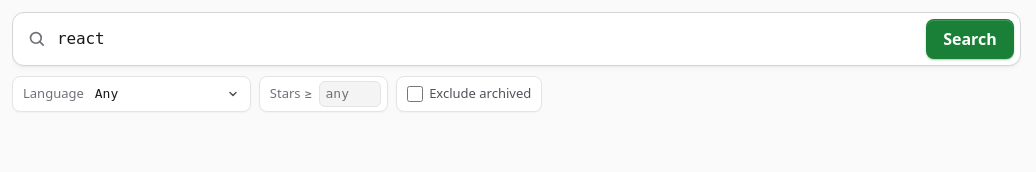
Test case: SearchFilters › toggles archived:false and shows archived:true as a removable chip
The image size is (1036, 172).
Click the checkbox labelled "Exclude archived".
click(415, 94)  # box left=407, top=86, right=423, bottom=102
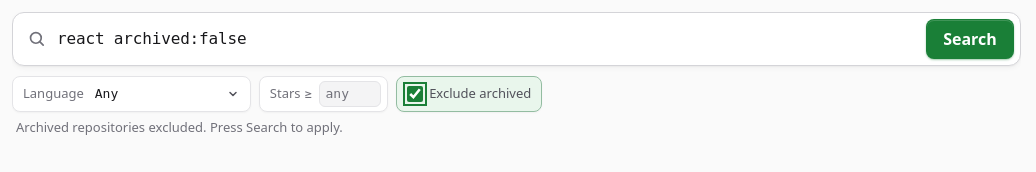
Expected: the dropdown named "Search repositories" holds "react archived:false", left=12, top=12, right=1021, bottom=66
Click the checkbox labelled "Exclude archived".
click(415, 94)  # box left=407, top=86, right=423, bottom=102
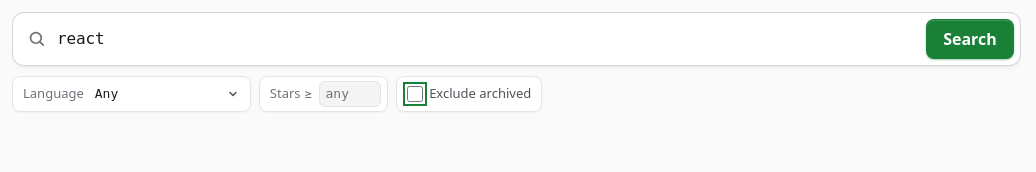
Expected: the dropdown named "Search repositories" holds "react"
Replace the text in the dropdown named "Search repositories" with "react archived:true" at (516, 39), box left=12, top=12, right=1021, bottom=66
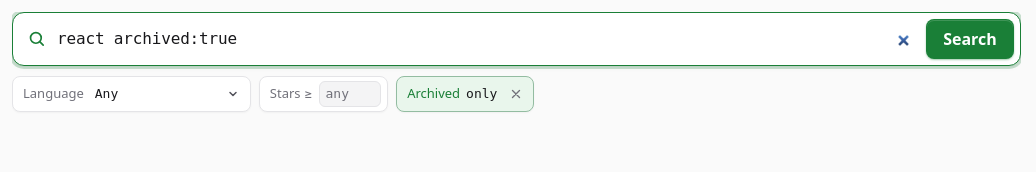
Expected: the label "Exclude archived" is gone
Click the button named "Remove archived filter archived only".
click(516, 94)  # box left=503, top=81, right=529, bottom=107
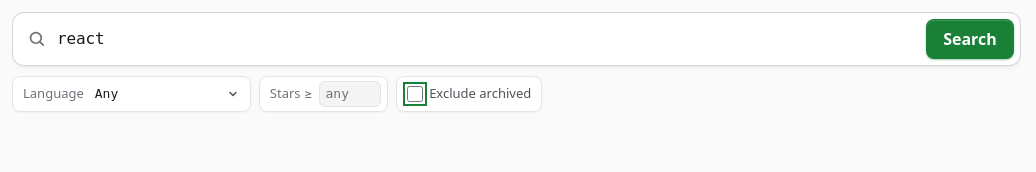
Expected: the dropdown named "Search repositories" holds "react", left=12, top=12, right=1021, bottom=66
